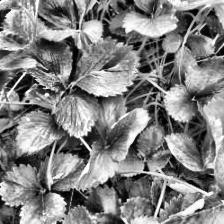Powdery Mildew Leaf: (105, 106, 153, 160), (74, 140, 120, 193), (153, 190, 224, 224), (203, 96, 224, 196), (166, 172, 207, 196)
